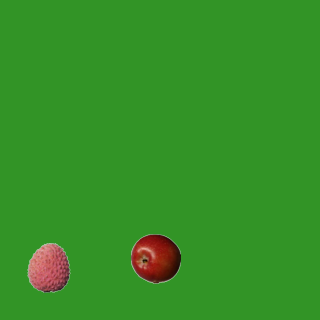Apple Braeburn: (130, 233, 180, 283)
Lychee: (23, 242, 73, 292)
